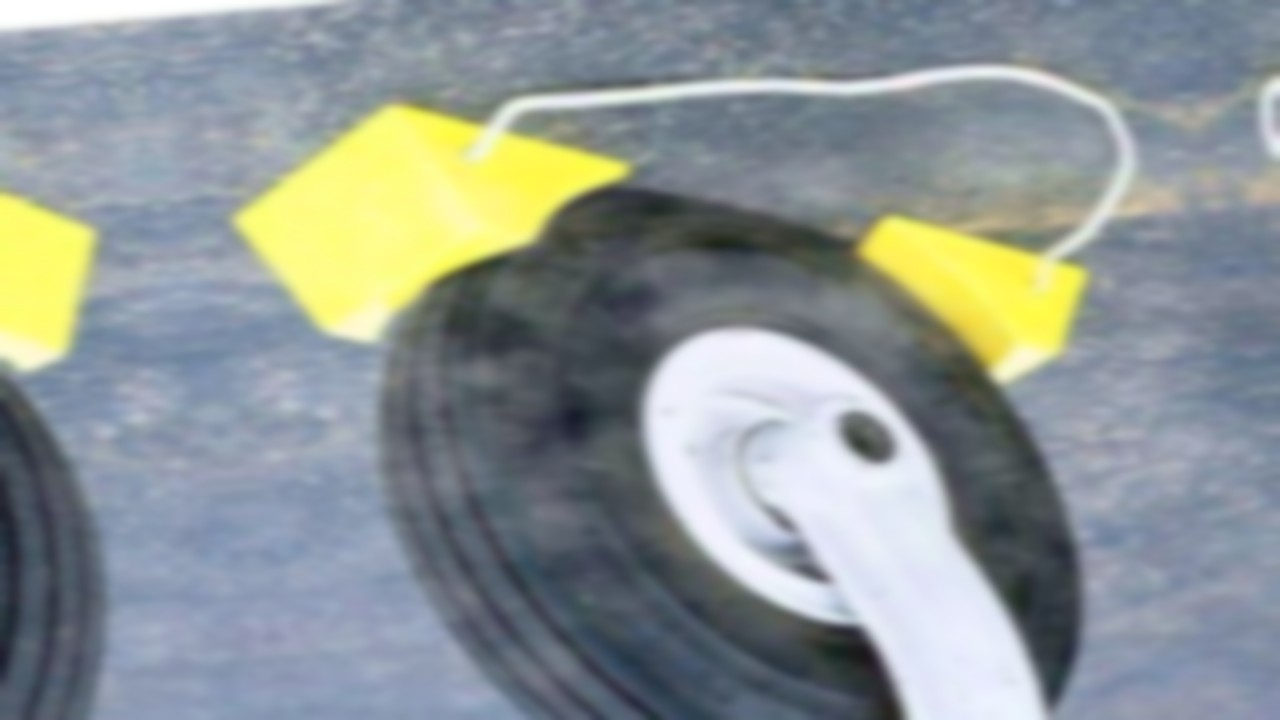chock: (202, 85, 667, 351), (775, 198, 1124, 414)
wheel: (306, 152, 1151, 720)
